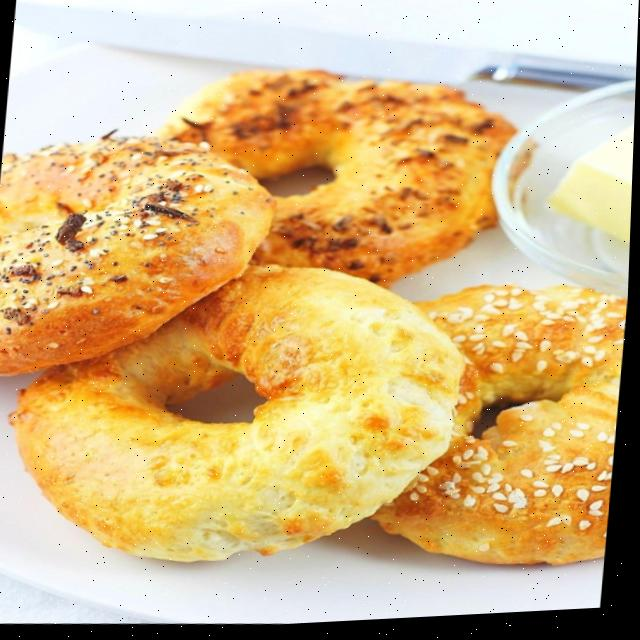Bread: (16, 269, 467, 563), (162, 72, 518, 292), (378, 291, 629, 570), (0, 139, 277, 374)
